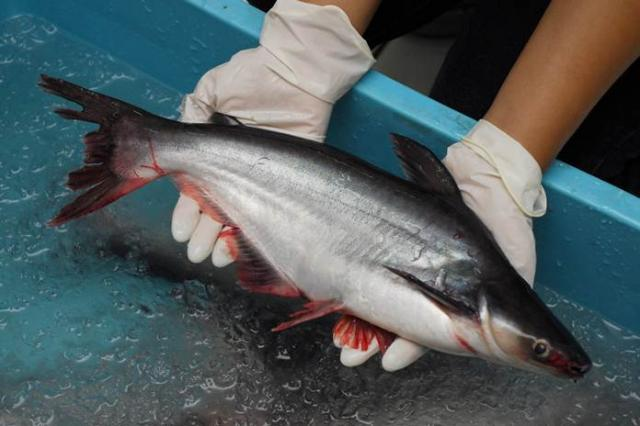Mulut: (514, 312, 608, 400)
Sirip Anal: (168, 162, 310, 307)
Sirip Dada: (372, 249, 482, 332)
Sirip Ekor: (25, 58, 172, 239)
Sirip Perut: (262, 288, 402, 365)
Sirip Punggung: (200, 103, 472, 219)
